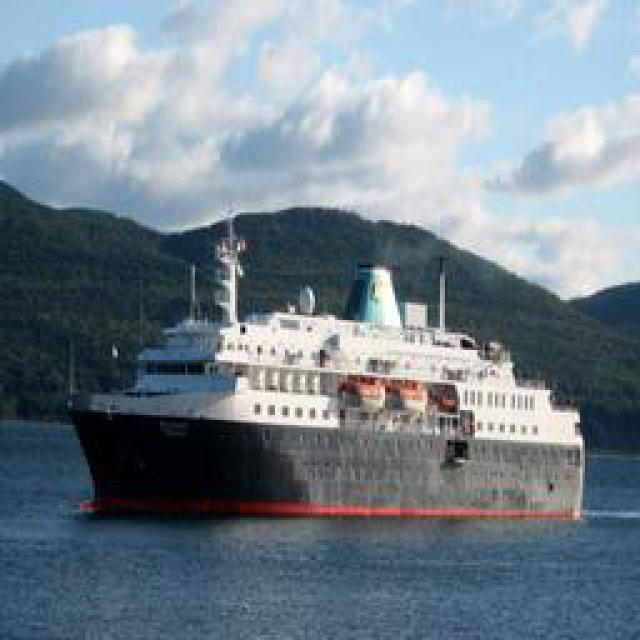Ship: (62, 230, 562, 515)
